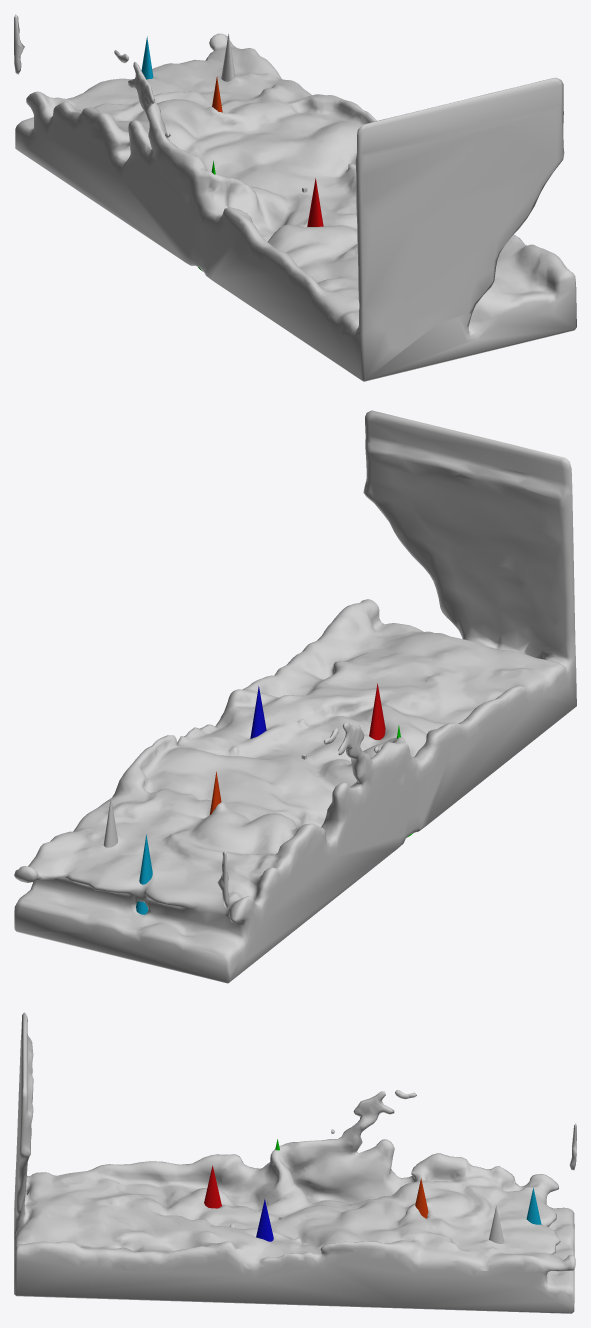
The picture shows the model from 3 angles, top to bottom: view 1: azimuth 30°, elevation 25°; view 2: azimuth 150°, elevation 25°; view 3: azimuth 270°, elevation 25°; orthographic projection. The views are drawn at different scales.
Parts seen in each view (by area): view 1: Liquid_Domain; view 2: Liquid_Domain; view 3: Liquid_Domain, 円錐.001, 円錐.002.
Part boxes in pixels (bbox=[...]): Liquid_Domain: bbox=[14, 14, 576, 381]; Liquid_Domain: bbox=[14, 410, 576, 983]; Liquid_Domain: bbox=[14, 1012, 576, 1313]; 円錐.001: bbox=[204, 1165, 221, 1208]; 円錐.002: bbox=[256, 1199, 273, 1241].
Bounding box in the file's own units: 129 × 158 × 363.
